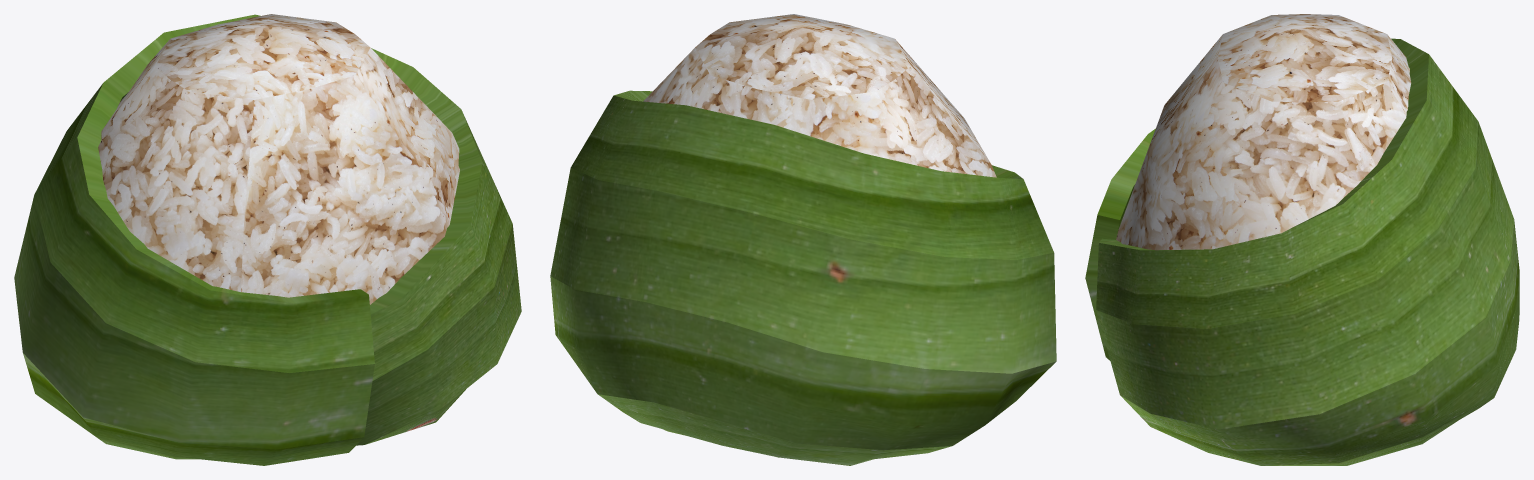
Rendered from _com1.fbx.
The picture shows the model from 3 angles, left to right: view 1: azimuth 30°, elevation 25°; view 2: azimuth 150°, elevation 25°; view 3: azimuth 270°, elevation 25°; orthographic projection. The views are drawn at different scales.
Visible parts, largest first — view 1: Plane.002, Circle.002; view 2: Plane.002, Circle.002; view 3: Plane.002, Circle.002.
Boxes of the visible parts, x1,y1,x2,y2 form: Plane.002: (14, 14, 521, 465); Circle.002: (98, 14, 459, 304); Plane.002: (550, 90, 1056, 465); Circle.002: (643, 14, 996, 177); Plane.002: (1085, 38, 1519, 465); Circle.002: (1116, 14, 1411, 250).
Size of the model in its own units: 13.09 by 10.53 by 11.13.
2 materials, 2 textured.
